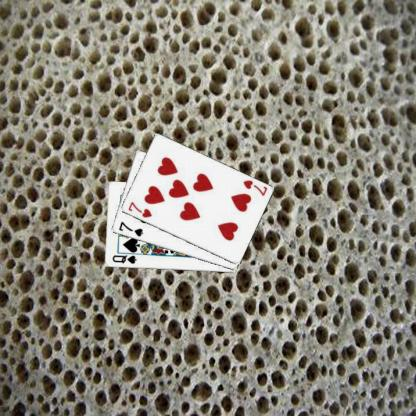7H: (125, 199, 153, 219), (240, 178, 268, 198)
7S: (116, 219, 144, 238)
QS: (110, 253, 138, 265)
